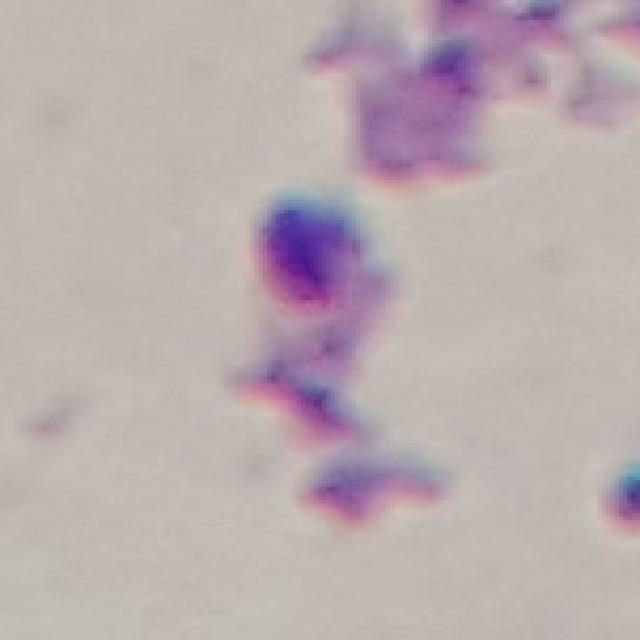non-sperm: (239, 197, 443, 526), (352, 0, 601, 182)
